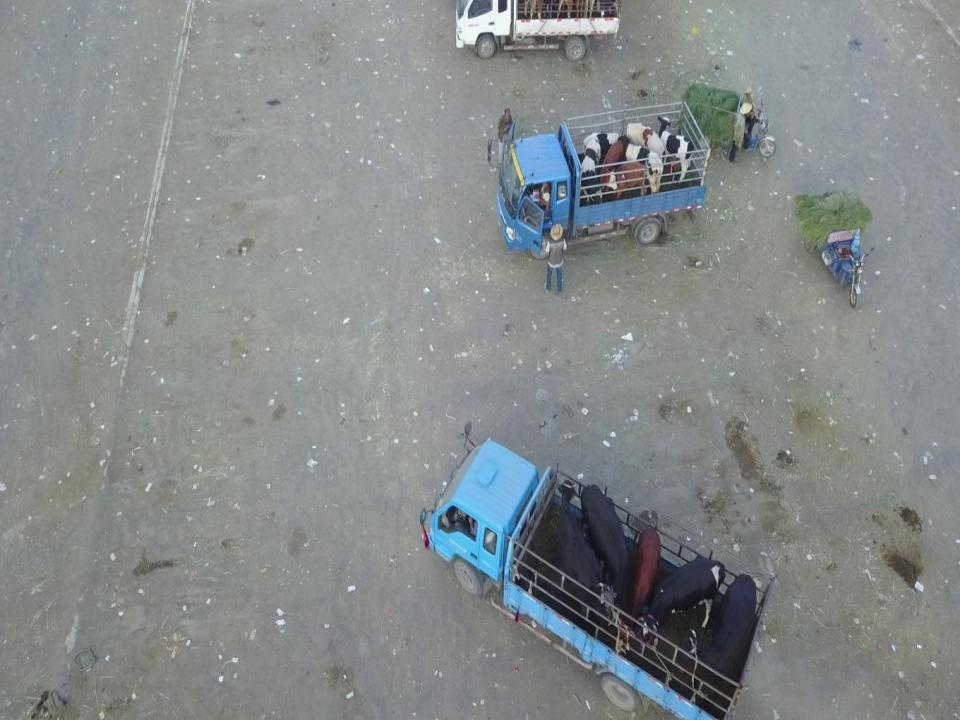truck: (423, 415, 777, 715), (483, 100, 718, 258), (454, 0, 626, 59)
